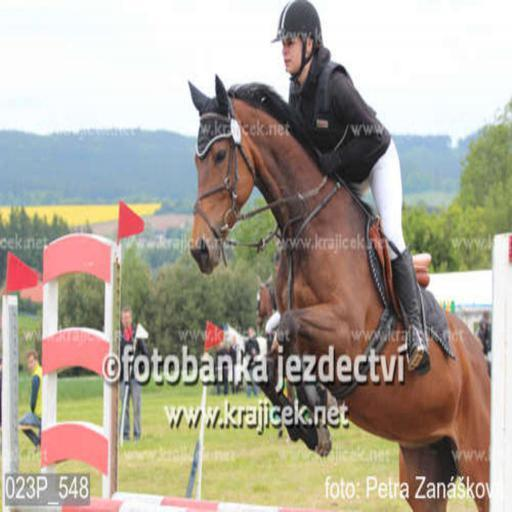horse: (186, 70, 492, 510)
